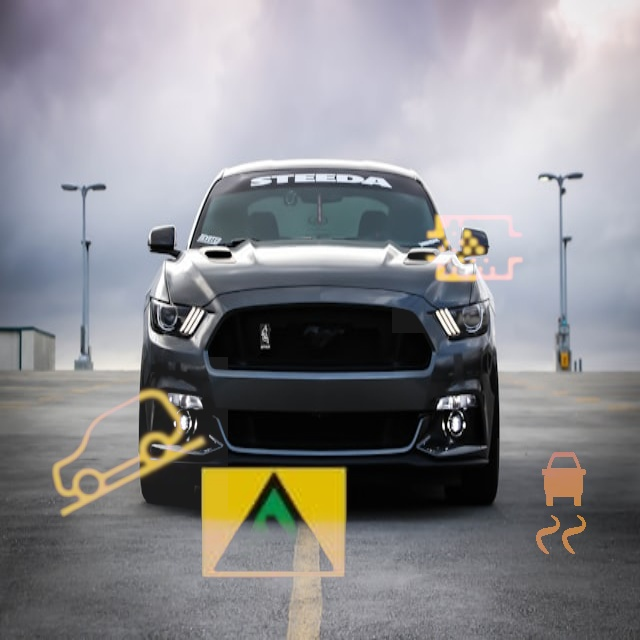symbol: (30, 357, 228, 555), (176, 426, 372, 622), (392, 164, 561, 333), (497, 438, 628, 569)
